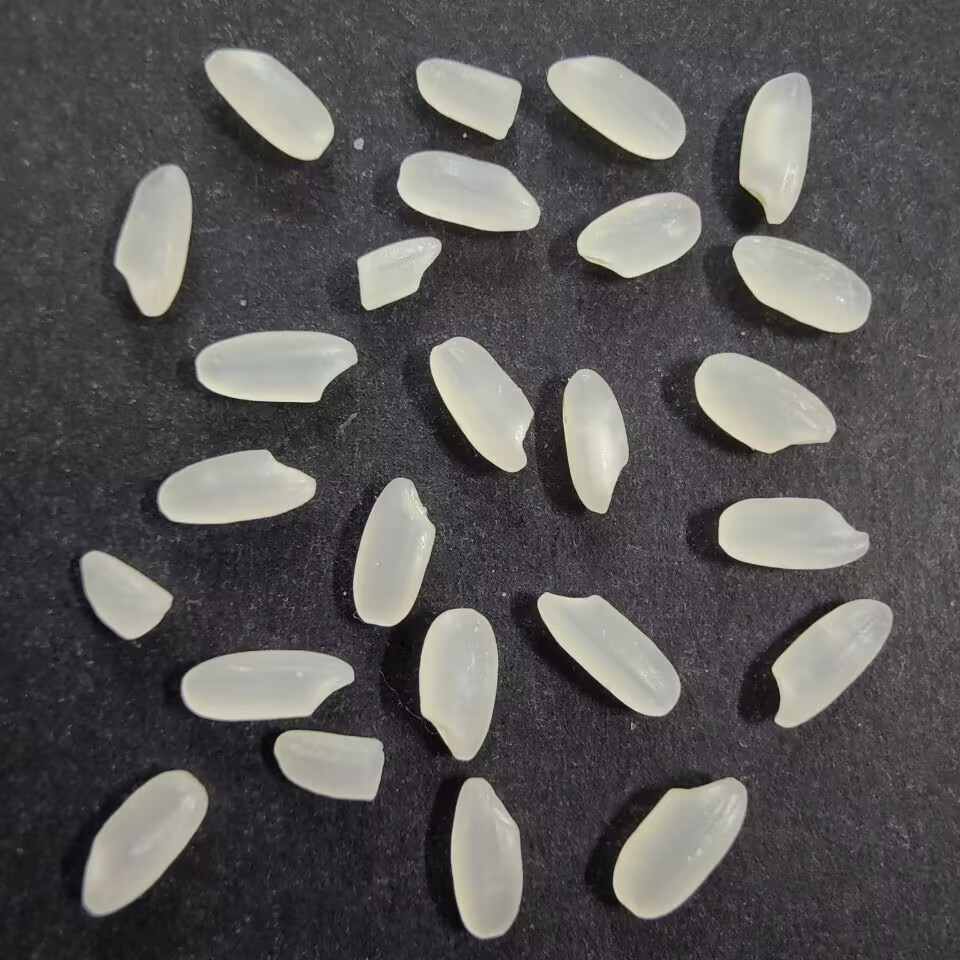broken: (73, 545, 177, 644), (411, 56, 526, 142), (272, 725, 389, 805), (353, 232, 446, 316)
rice: (76, 765, 212, 925), (610, 773, 753, 922), (534, 588, 684, 722), (765, 596, 900, 733), (542, 53, 690, 163), (200, 45, 339, 162), (693, 350, 840, 460), (426, 335, 540, 476), (729, 229, 876, 338), (390, 144, 547, 238), (156, 446, 322, 533), (349, 471, 439, 630), (179, 648, 359, 726), (731, 65, 816, 226), (446, 770, 526, 941), (112, 160, 195, 323), (711, 493, 876, 574), (416, 603, 499, 763), (190, 328, 363, 404), (570, 187, 706, 281), (555, 365, 636, 519)
